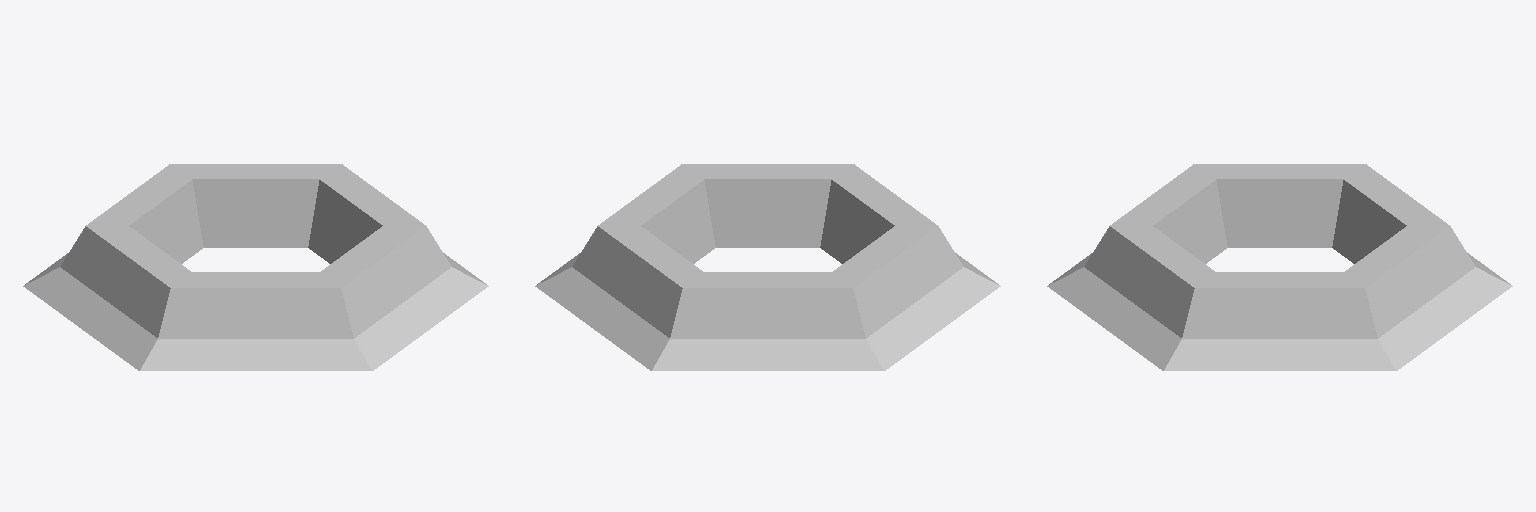
Rendered from crater.obj.
The picture shows the model from 3 angles: view 1: azimuth 30°, elevation 25°; view 2: azimuth 150°, elevation 25°; view 3: azimuth 270°, elevation 25°; orthographic projection.
Visible parts, largest first — view 1: crater; view 2: crater; view 3: crater.
Part boxes in pixels (x1,y1,x2,y2): crater: (23, 164, 488, 370); crater: (535, 164, 1000, 370); crater: (1047, 164, 1512, 370).
Bounding box in the file's own units: 0.715 × 0.1176 × 0.8256.